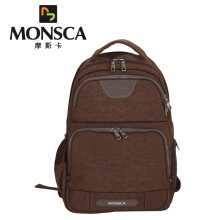luggage: (53, 38, 182, 210)
